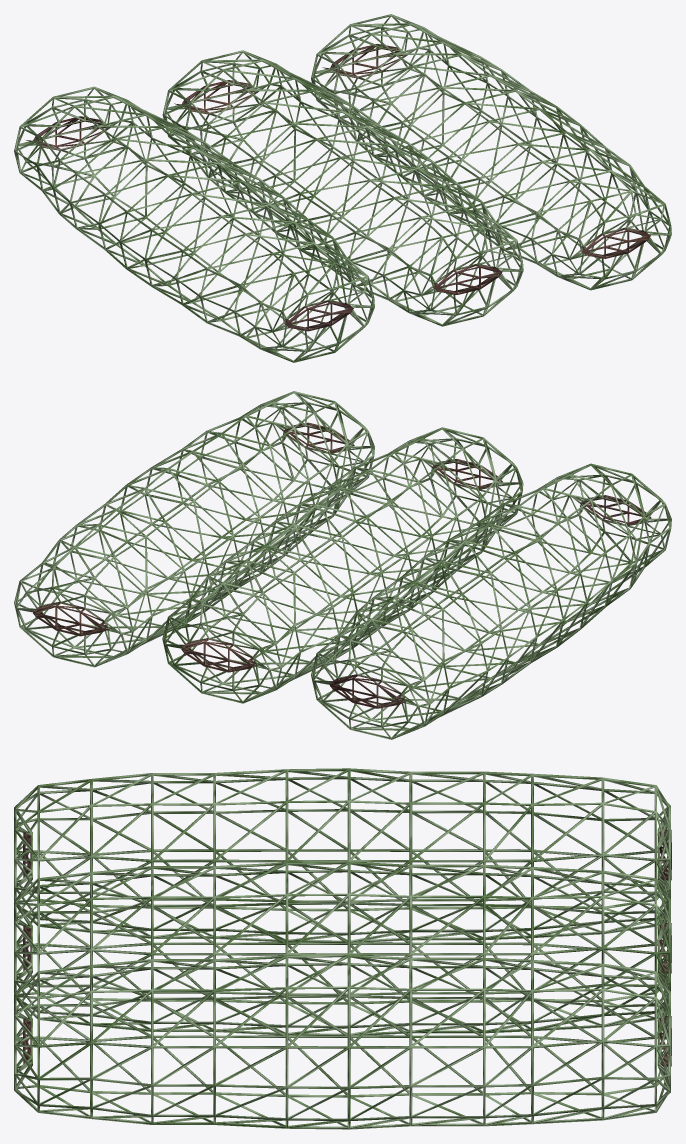
File: repolloW.glb
3 views of the same model, one above another, from view 1: azimuth 30°, elevation 25°; view 2: azimuth 150°, elevation 25°; view 3: azimuth 270°, elevation 25° (orthographic). The views are drawn at different scales.
Parts seen in each view (by area): view 1: polySurface28; view 2: polySurface28; view 3: polySurface28.
Part boxes in pixels (bbox=[...]): polySurface28: bbox=[14, 14, 671, 362]; polySurface28: bbox=[14, 391, 671, 739]; polySurface28: bbox=[14, 768, 671, 1129].
Bounding box in the file's own units: 1.23 × 0.295 × 1.23.
Materials: 1 (1 with a texture image).
